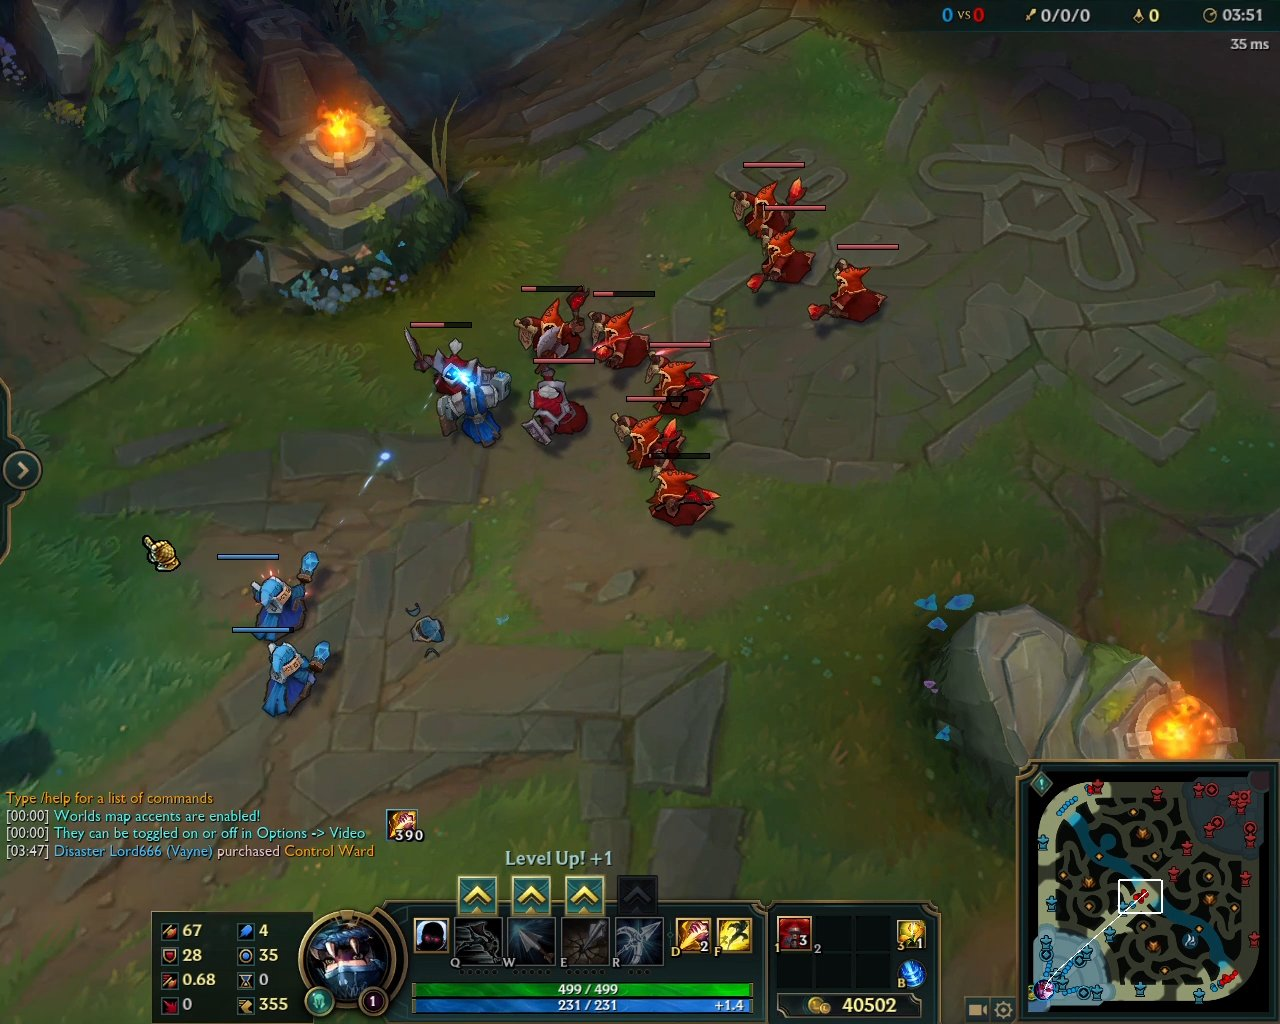EnemyMinion: (802, 243, 901, 326), (746, 205, 825, 292), (519, 358, 594, 447), (610, 395, 690, 476), (731, 159, 809, 238), (405, 321, 482, 397), (646, 341, 717, 420), (586, 290, 656, 370), (645, 452, 718, 528), (517, 284, 588, 362)
